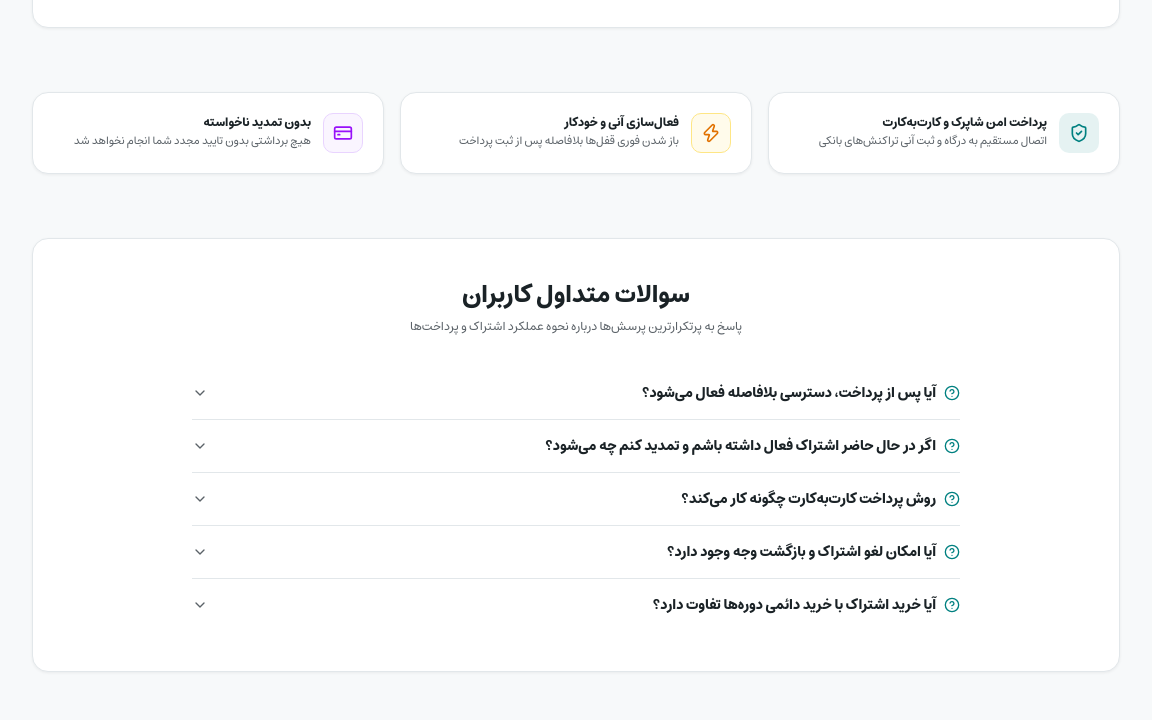
Test: Pricing & Card-to-Card UX Refactor Suite › 10. PricingPage renders enhanced hero headline, shared features section, and 12-hour refund policy
(page scrolled)
Check: the text "آیا امکان لغو اشتراک و بازگشت وجه وجود دارد؟" is shown, box 667,542 -> 936,562
Click the button "آیا امکان لغو اشتراک و بازگشت وجه وجود دارد؟": point(801, 552) 192,542 -> 960,562
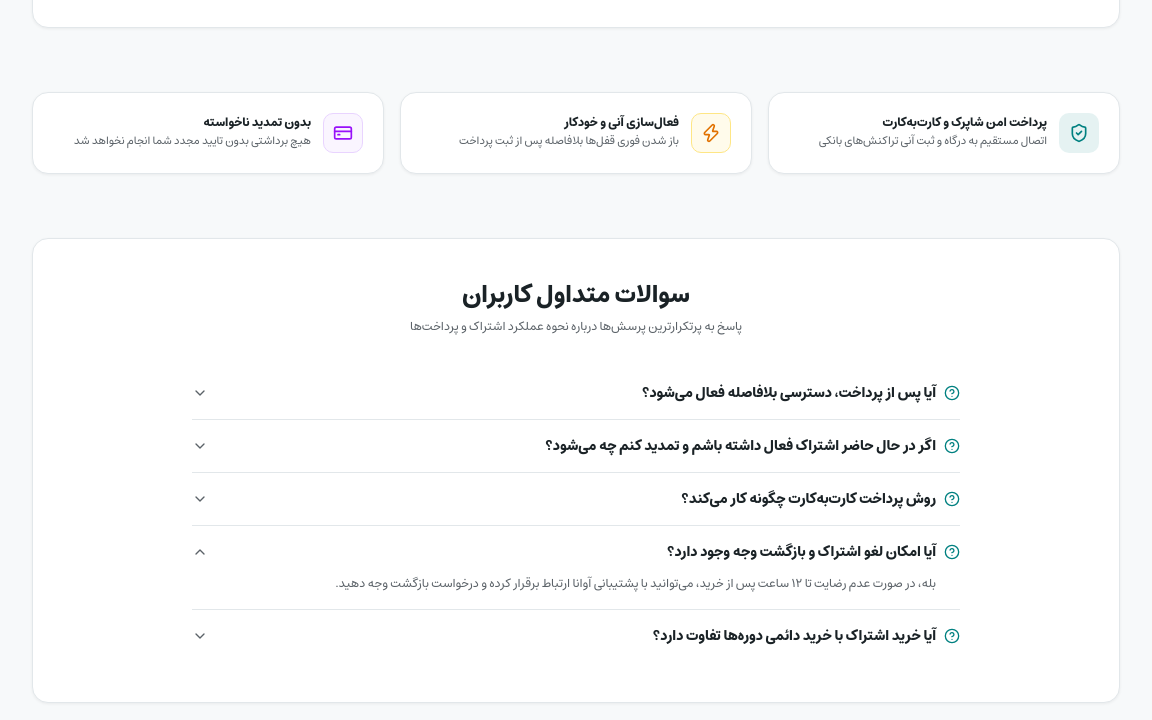
Check: the text "بله، در صورت عدم رضایت تا ۱۲ ساعت پس از خرید، می‌توانید با پشتیبانی آوانا ارتباط برقرار کرده و درخواست بازگشت وجه دهید." is shown, box 335,573 -> 936,594
